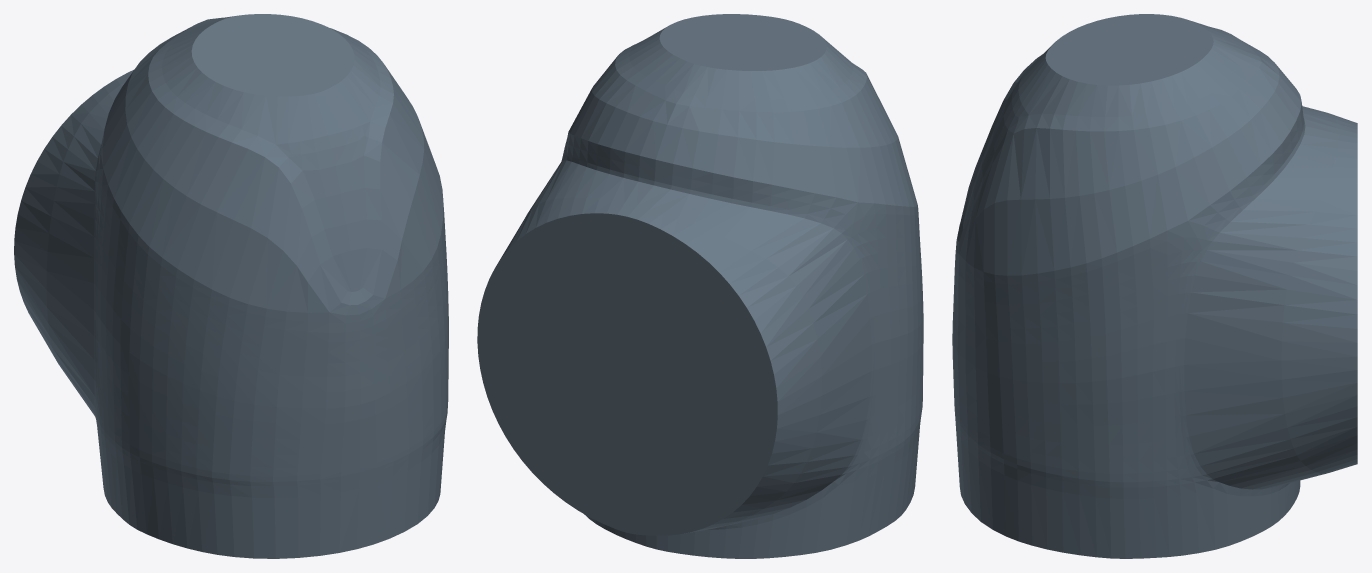
The picture shows the model from 3 angles, left to right: view 1: azimuth 30°, elevation 25°; view 2: azimuth 150°, elevation 25°; view 3: azimuth 270°, elevation 25°; orthographic projection. The views are drawn at different scales.
Parts seen in each view (by area): view 1: MF1509_1_0; view 2: MF1509_1_0; view 3: MF1509_1_0.
Part boxes in pixels (x1,y1,x2,y2): MF1509_1_0: [14, 14, 448, 558]; MF1509_1_0: [477, 14, 923, 558]; MF1509_1_0: [952, 14, 1357, 558].
Bounding box in the file's own units: 163 × 181 × 219.
